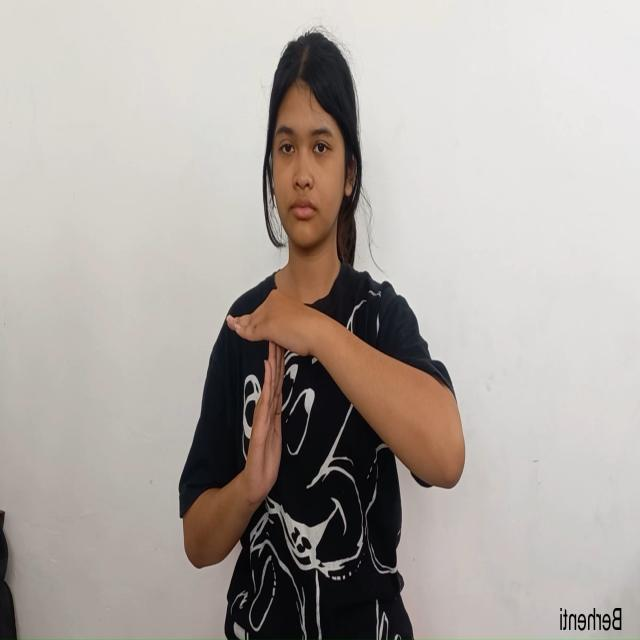Berhenti -BISINDO-: (239, 286, 382, 545)
